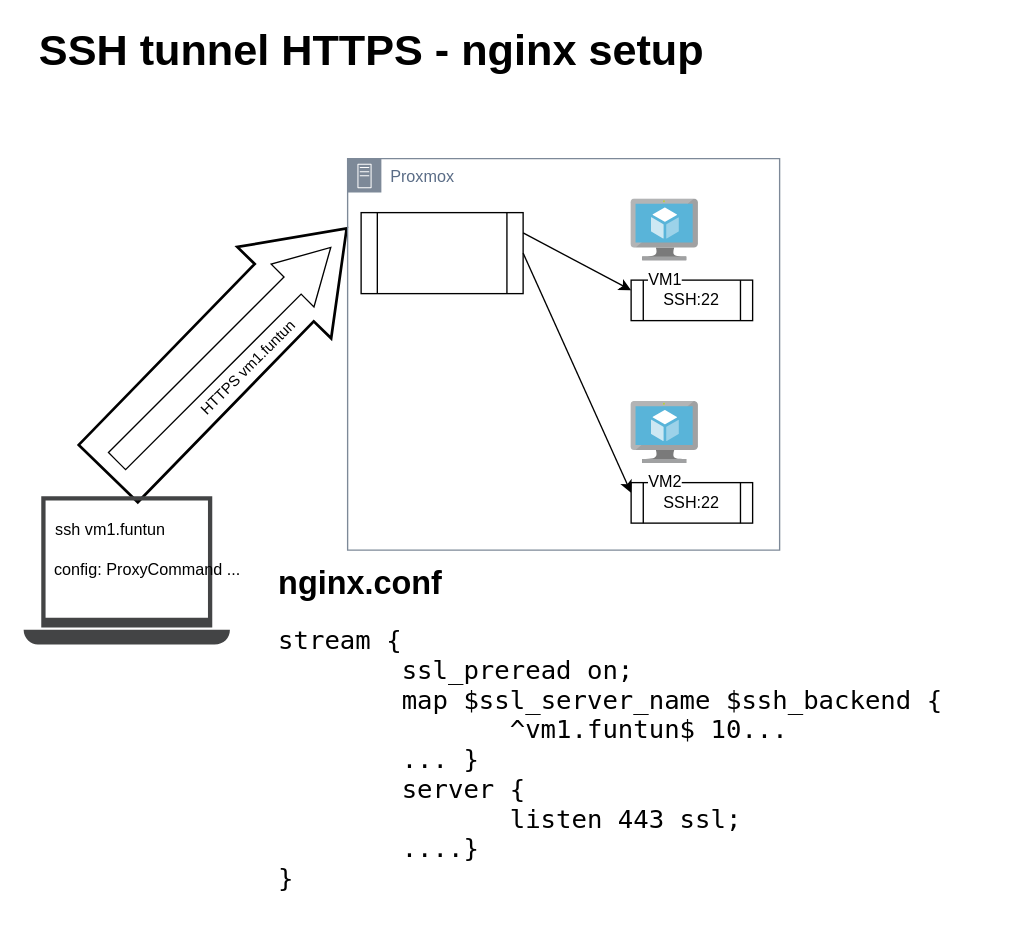
The diagram is 1011 pixels wide and 926 high, and some of its shapes have lost their labels. The centre of each missing label's shape, as x and y in pixels:
"NGINX HTTPS:443" goes at point 441,252.
"ssh handshake" goes at point 223,353.
